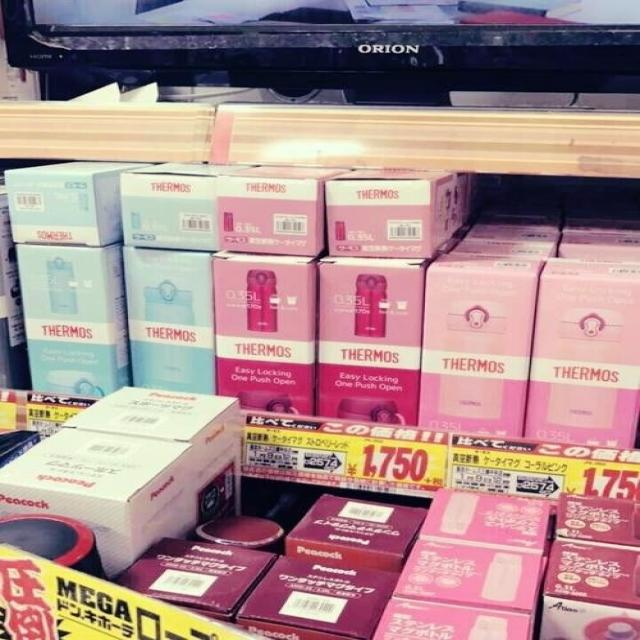box: (0, 425, 200, 584), (60, 386, 243, 527), (418, 253, 547, 437), (316, 245, 439, 426), (524, 257, 639, 448), (13, 237, 135, 400), (211, 249, 317, 415), (123, 247, 220, 396), (231, 554, 401, 639), (113, 536, 278, 623), (4, 160, 167, 247), (327, 168, 472, 258), (216, 165, 356, 258), (119, 163, 259, 251), (392, 541, 549, 614), (286, 494, 428, 574), (415, 488, 559, 555), (370, 595, 536, 639), (541, 542, 639, 610), (552, 493, 639, 551), (533, 593, 639, 639), (558, 226, 639, 262), (443, 237, 558, 260), (457, 222, 563, 241)
